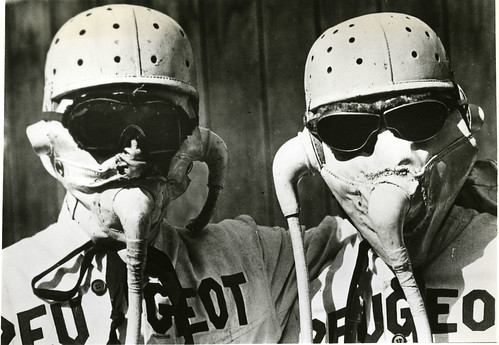helmet: (24, 3, 209, 97), (288, 9, 456, 96)
